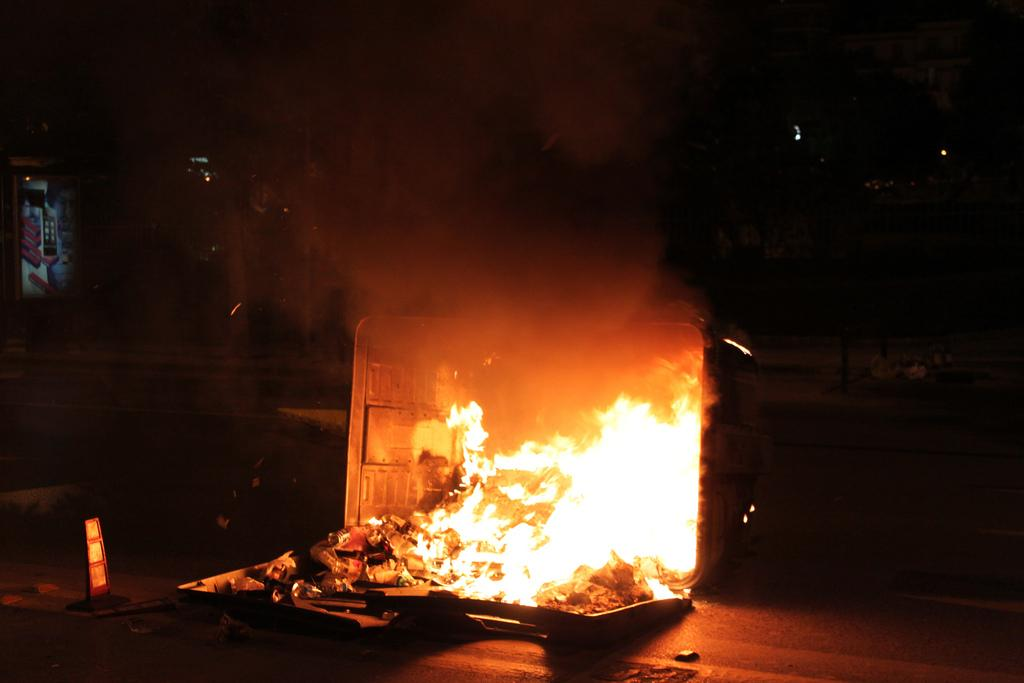fire: (583, 407, 697, 572), (442, 523, 573, 580)
